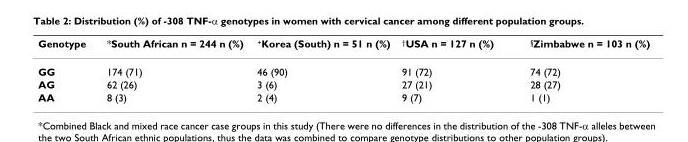table: (37, 36, 649, 102)
table column: (95, 36, 249, 102), (249, 36, 395, 102), (511, 36, 649, 102), (395, 36, 511, 102), (37, 36, 95, 102)
table column header: (37, 36, 649, 56)
table row: (37, 56, 649, 77), (37, 36, 649, 56), (37, 77, 649, 90), (37, 90, 649, 102)
